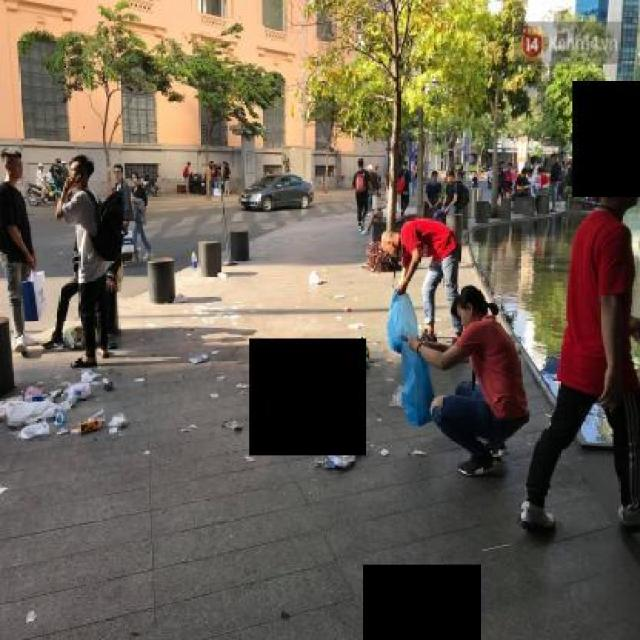plastic bag: (0, 358, 138, 436), (397, 331, 443, 431), (272, 403, 330, 449), (385, 281, 420, 354), (0, 395, 54, 437), (323, 420, 363, 474), (294, 354, 329, 377), (305, 262, 326, 292)
